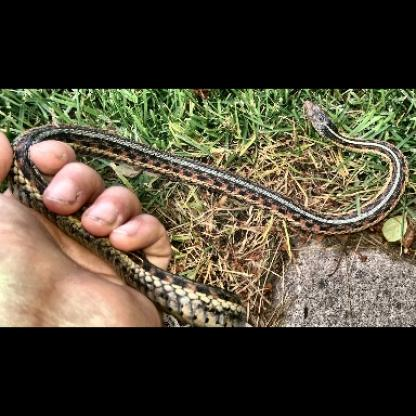Snake: (284, 96, 412, 236)
